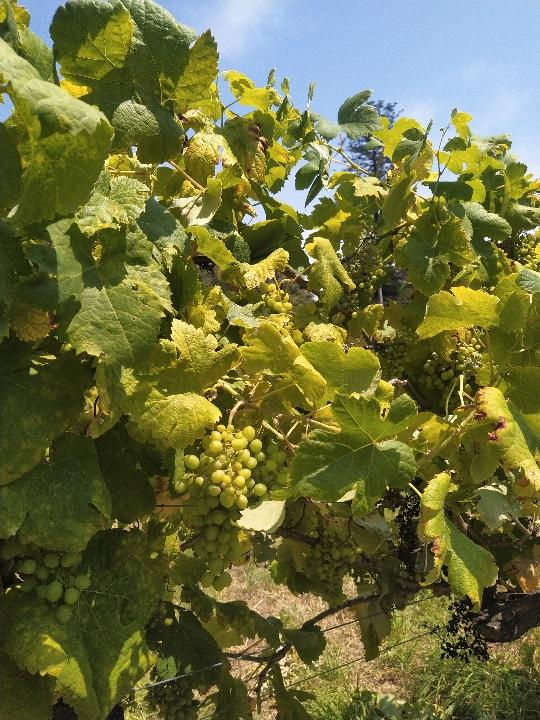grape: (172, 424, 290, 590)
